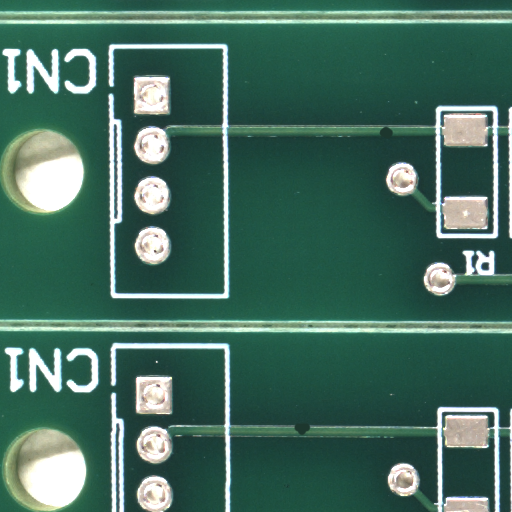Mouse_bite: (302, 430, 317, 441), (386, 132, 400, 143)
